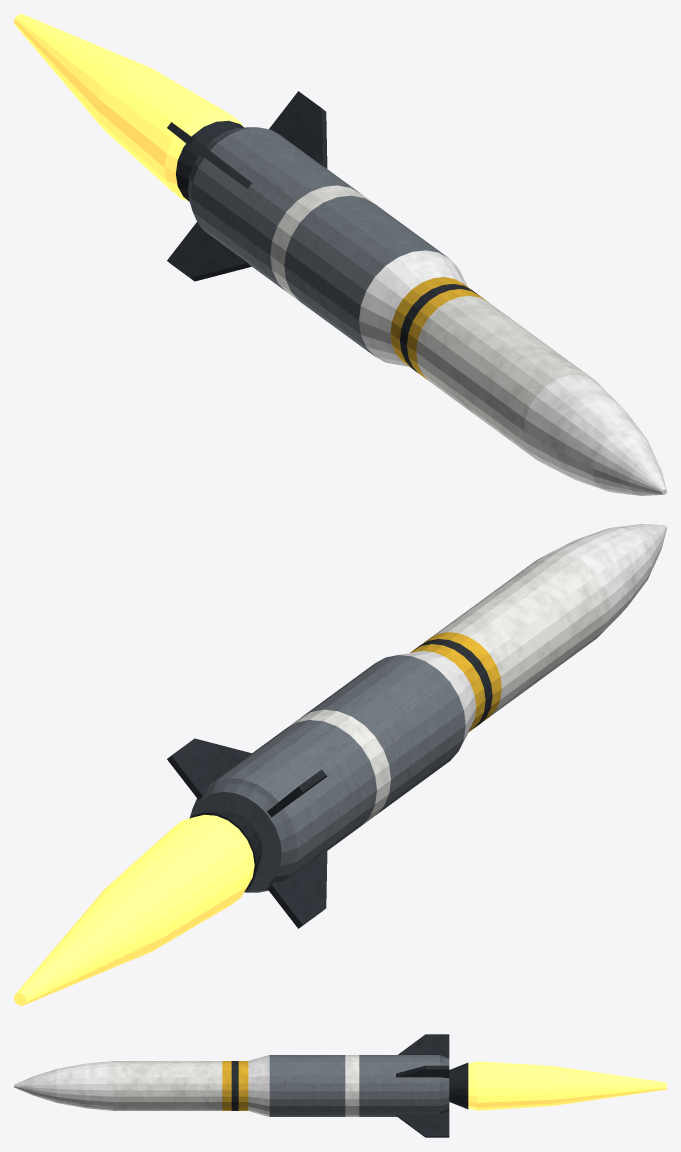
File: hydrogen_bomb.gltf
3 views of the same model, one above another, from view 1: azimuth 30°, elevation 25°; view 2: azimuth 150°, elevation 25°; view 3: azimuth 270°, elevation 25° (orthographic). The views are drawn at different scales.
Parts seen in each view (by area): view 1: HydrogenBomb; view 2: HydrogenBomb; view 3: HydrogenBomb.
Part boxes in pixels (left/top/right/bottom): HydrogenBomb: left=14, top=14, right=666, bottom=495; HydrogenBomb: left=14, top=524, right=666, bottom=1005; HydrogenBomb: left=14, top=1034, right=666, bottom=1137.
Bounding box in the file's own units: 0.1683 × 0.1683 × 1.38.
7 materials, 6 textured.
